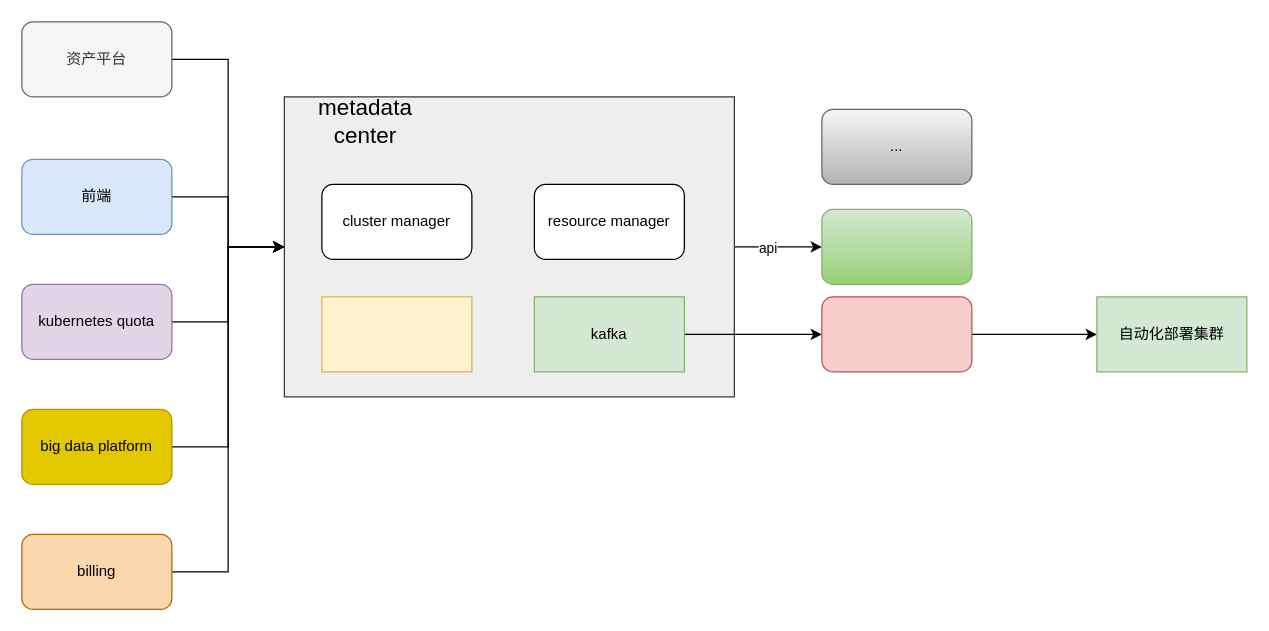
The diagram is 1269 pixels wide and 631 high, and some of its shapes have lost their labels. The shapes that lost their labels are listed below. From the top down, each one's centre as x and y in pixels, then its label:
the point at 896,246: SLI exporter
the point at 396,334: postgresql
the point at 896,334: argo workflow
